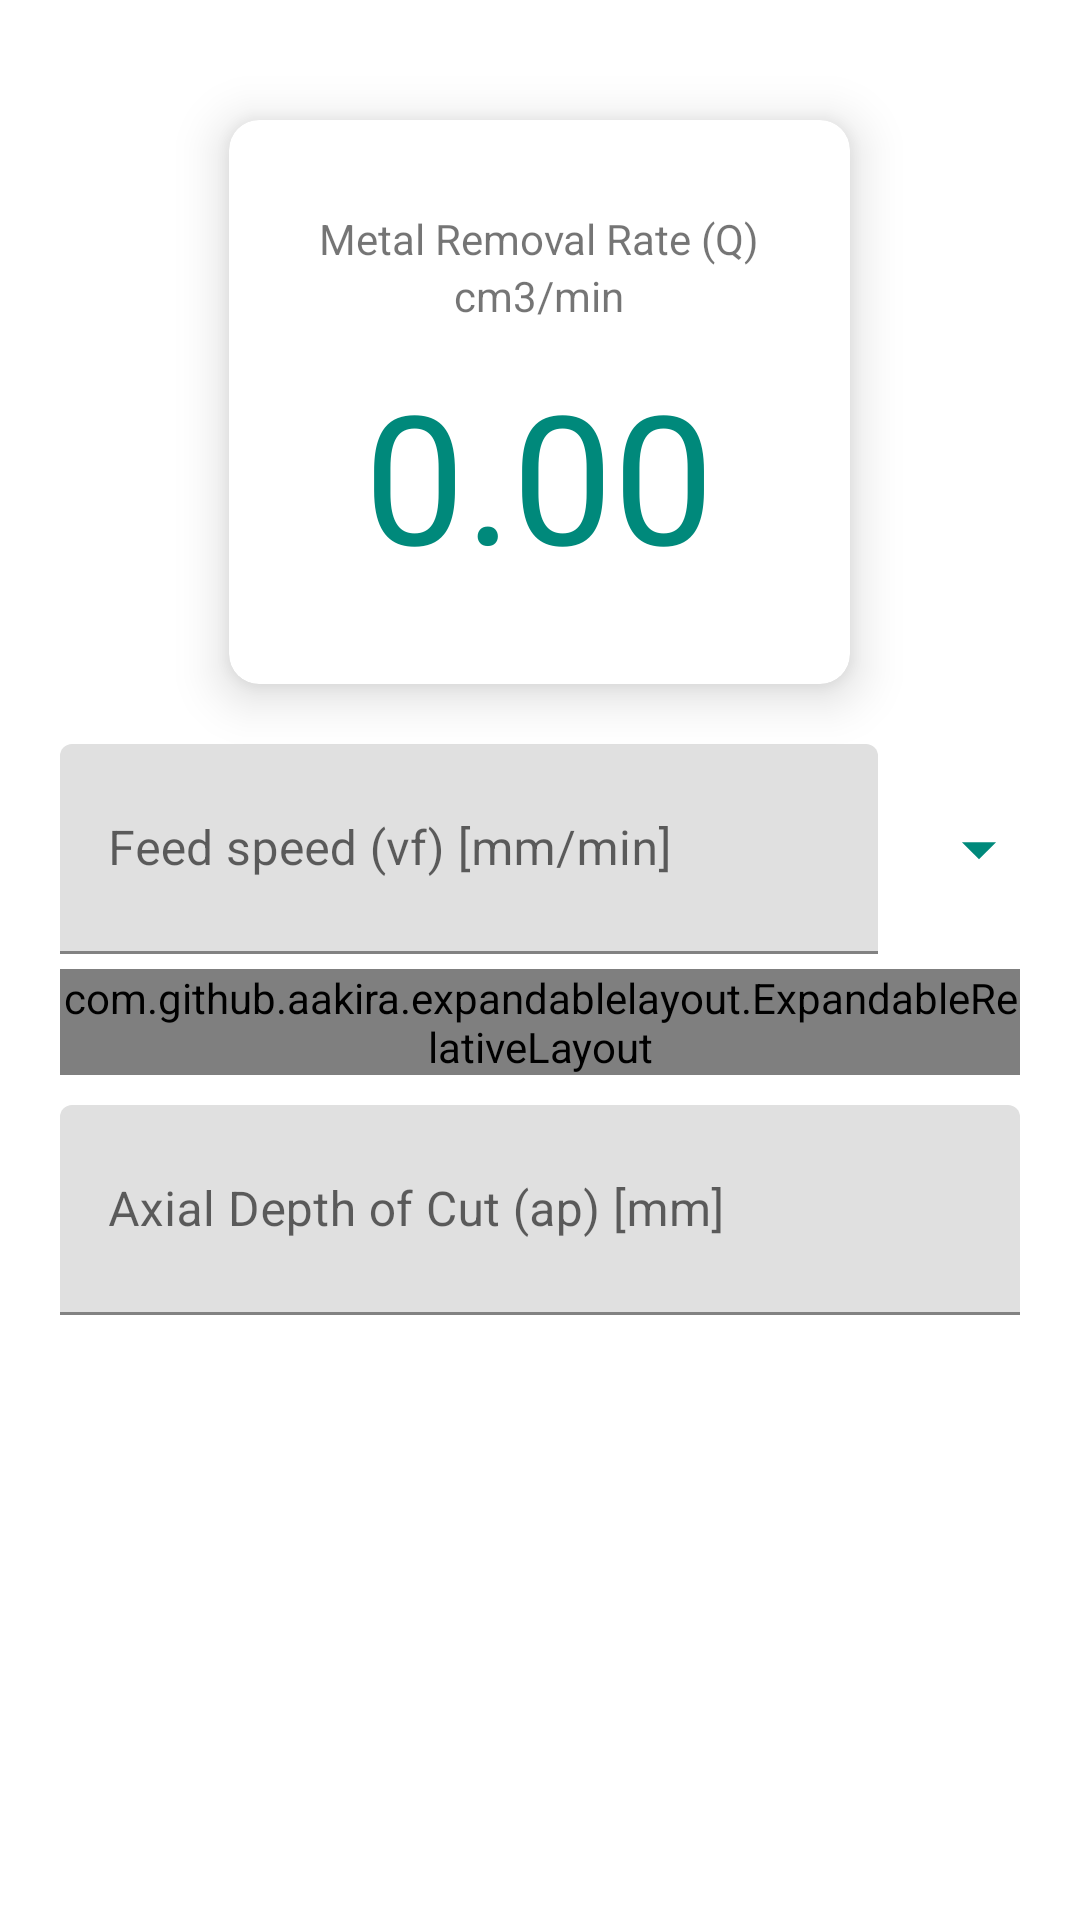

Where icons sit on this 1080×1920 app screen, as (x1, y1, x2, y2):
arrow drop down: (962, 842, 996, 859)
